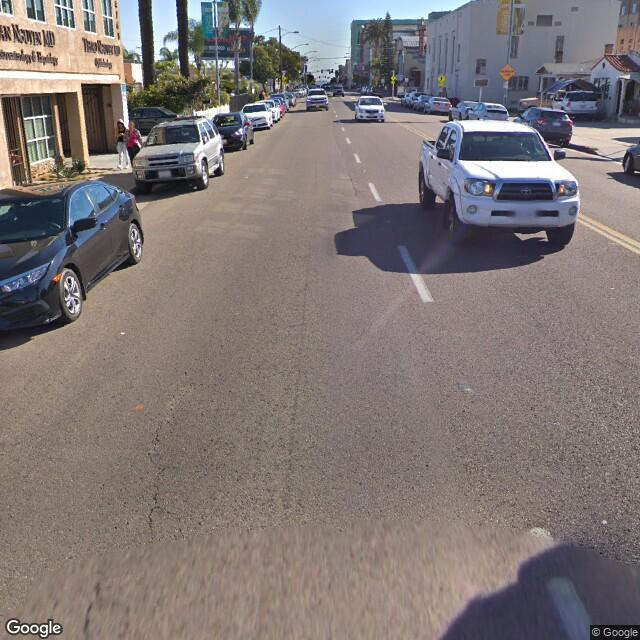road line: (372, 175, 432, 305)
window: (21, 100, 54, 162)
